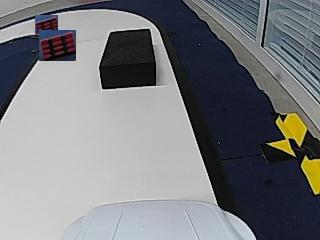block: (100, 29, 157, 89)
